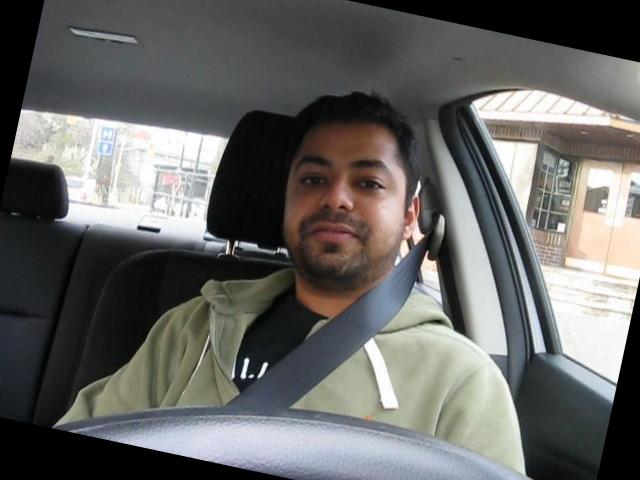eye_open: (348, 170, 391, 198), (294, 165, 332, 194)
face: (269, 124, 416, 290)
